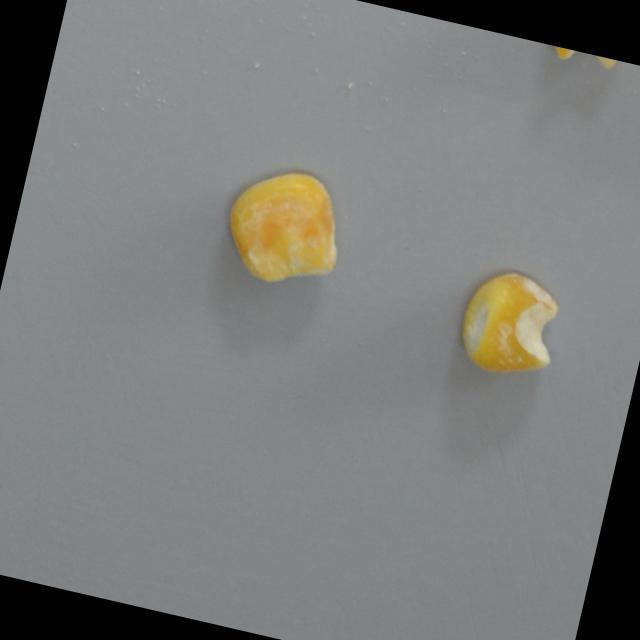pelicula: (213, 159, 354, 299), (451, 264, 567, 384), (539, 43, 631, 78)
